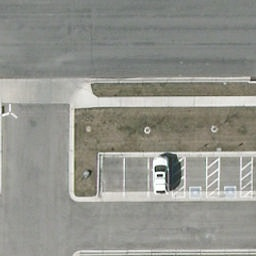car: (152, 158, 170, 197)
